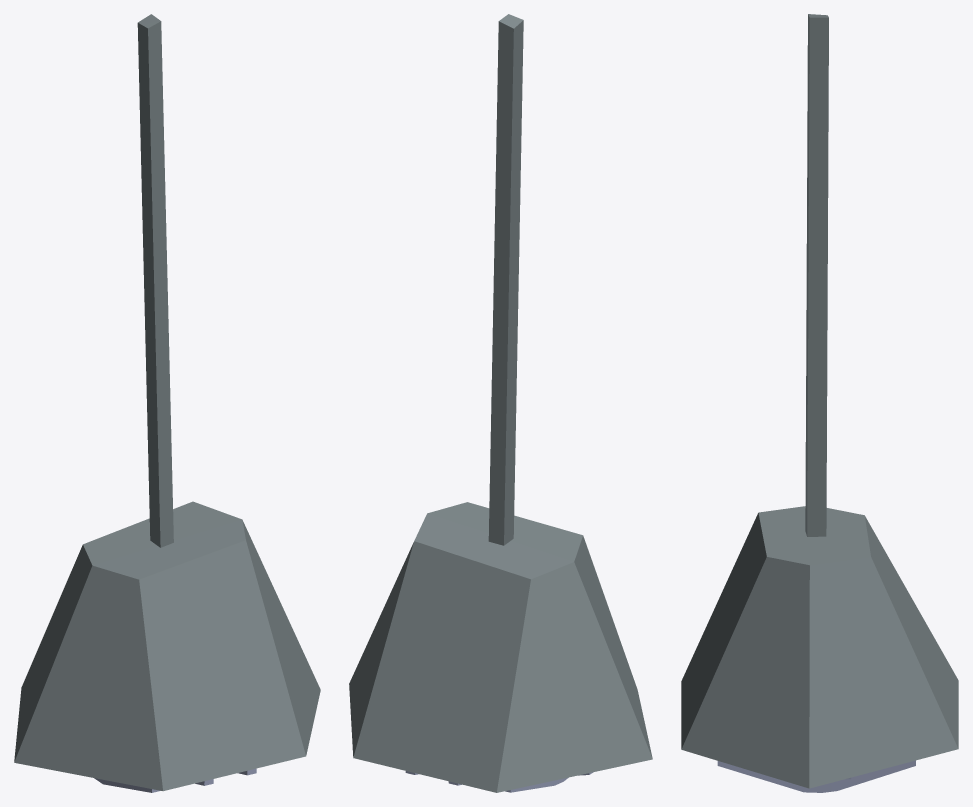
File: Jail_Lamp_Type_2.fbx
3 views of the same model, side by side, from view 1: azimuth 30°, elevation 25°; view 2: azimuth 150°, elevation 25°; view 3: azimuth 270°, elevation 25° (orthographic). The views are drawn at different scales.
Visible parts, largest first — view 1: pCube246, Jail_Lamp_Type_cable_2; view 2: pCube246, Jail_Lamp_Type_cable_2; view 3: pCube246, Jail_Lamp_Type_cable_2.
Part boxes in pixels (box(x1,y1,x2,y2)): pCube246: box(14, 501, 320, 792); Jail_Lamp_Type_cable_2: box(137, 14, 173, 547); pCube246: box(349, 502, 652, 792); Jail_Lamp_Type_cable_2: box(488, 14, 523, 545); pCube246: box(681, 506, 958, 792); Jail_Lamp_Type_cable_2: box(805, 14, 828, 536).
Bounding box in the file's own units: 1.35 × 3.17 × 1.09.
